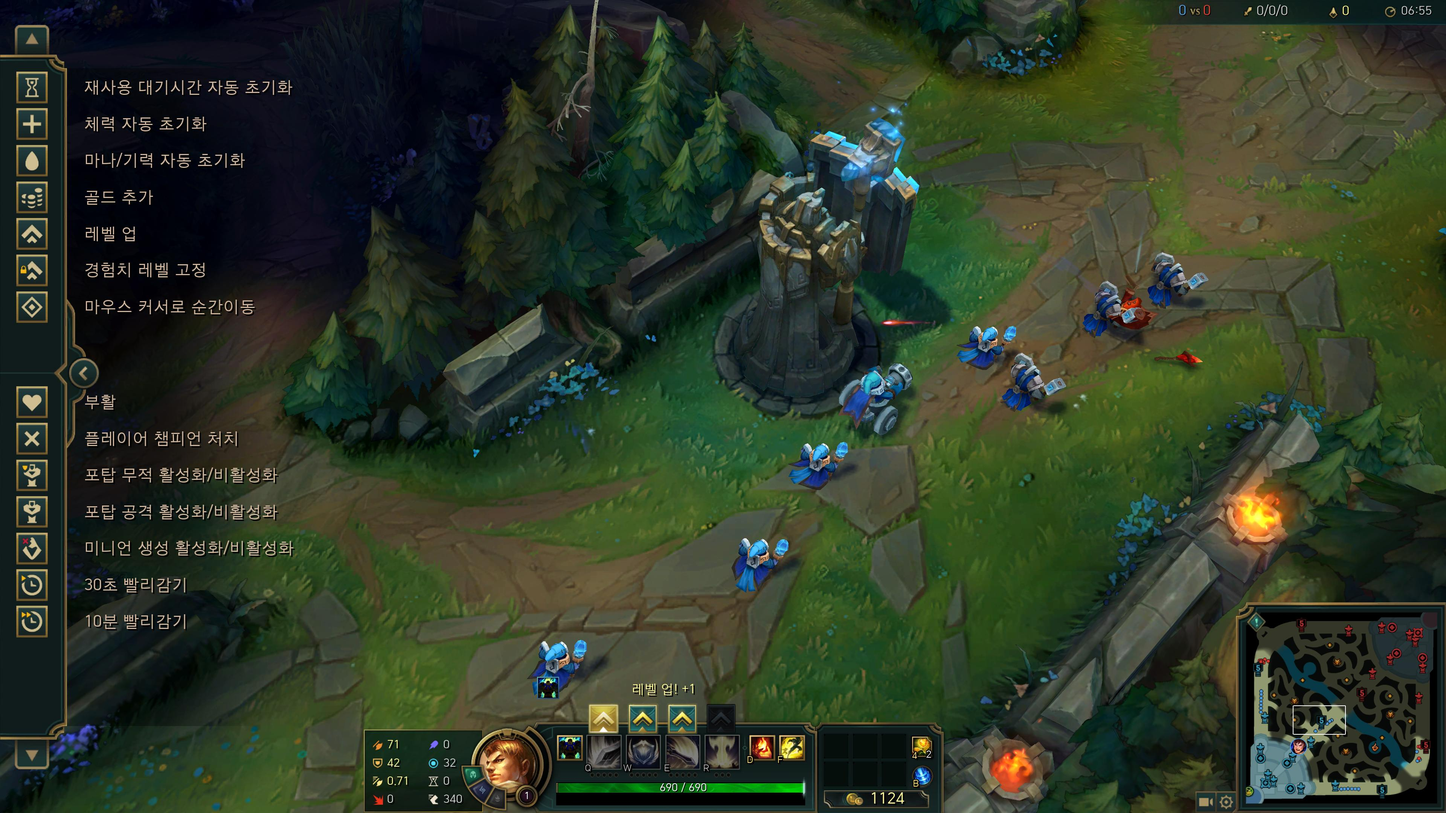ally-caster-minion: (731, 538, 790, 591), (958, 324, 1016, 370), (794, 443, 850, 489)
ally-melee-minion: (1082, 281, 1139, 340), (1006, 355, 1064, 411), (1149, 253, 1209, 305)
ally-siege-minion: (839, 363, 914, 434)
